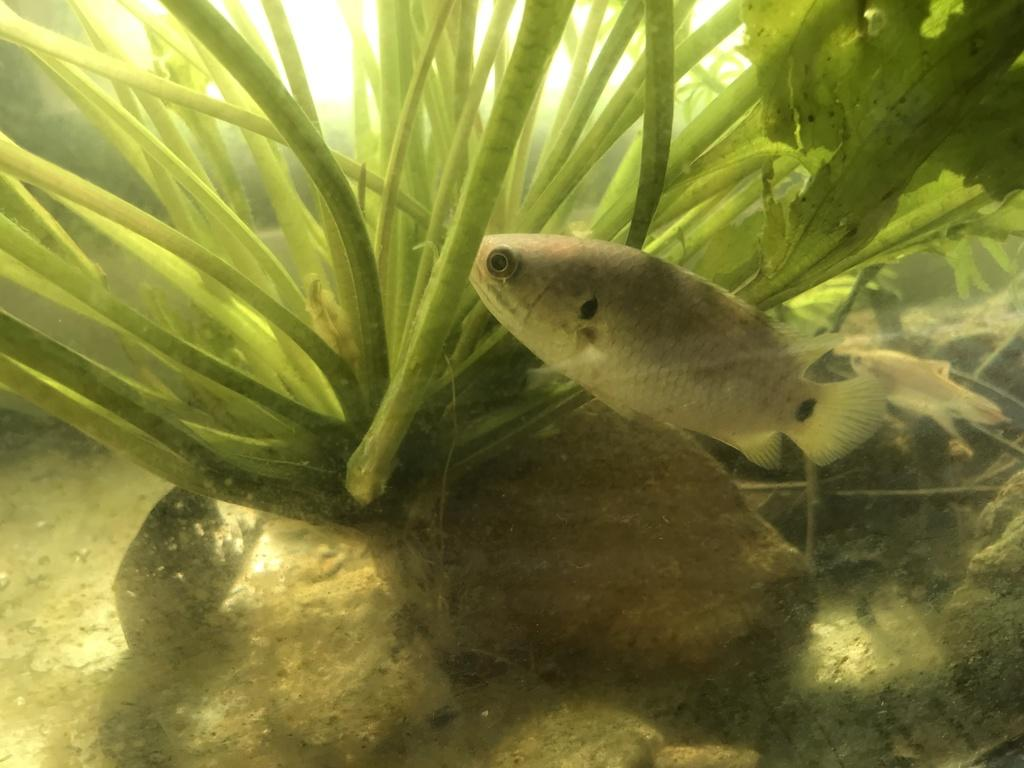Climbing Perch: (469, 216, 892, 468)
